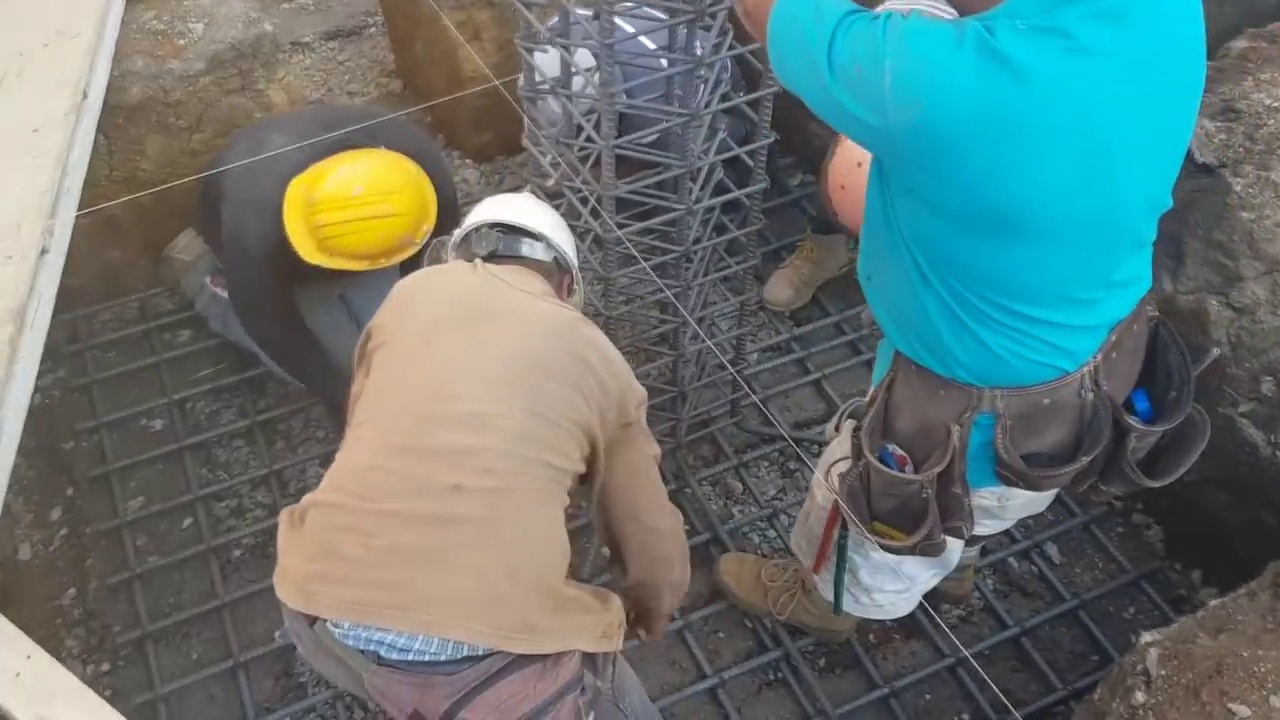helmet: (285, 152, 433, 269), (446, 190, 585, 289)
helmet-off: (525, 34, 602, 143)
helmet-on: (259, 135, 442, 289), (445, 183, 586, 308)
person: (736, 0, 1233, 645), (271, 183, 696, 715), (157, 127, 460, 424), (521, 5, 736, 184)
